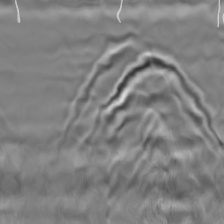Utility: (64, 34, 223, 153)
